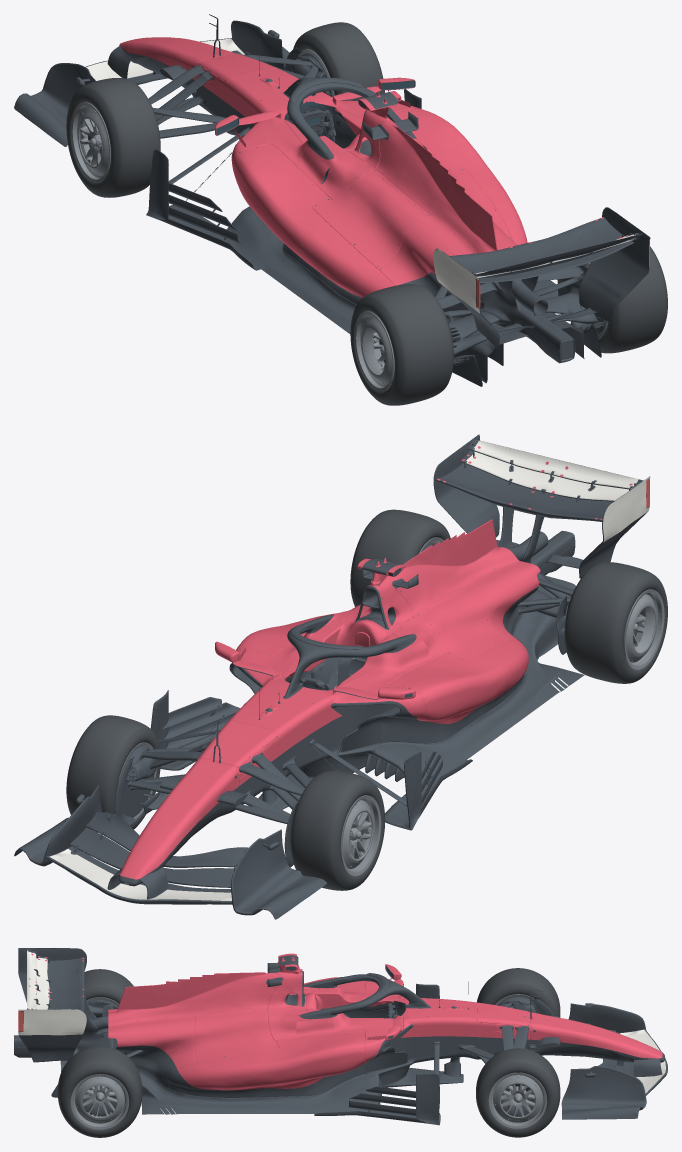
The model's file is ferrari-high.glb.
The picture shows the model from 3 angles, top to bottom: view 1: azimuth 30°, elevation 25°; view 2: azimuth 150°, elevation 25°; view 3: azimuth 270°, elevation 25°; orthographic projection. The views are drawn at different scales.
Visible parts, largest first — view 1: body, wheel2, wheel0, rearFlaps, frontFlaps, wheel3, wheel1, frontWing, rearWing, steering; view 2: body, frontFlaps, rearFlaps, wheel2, wheel0, wheel1, frontWing, wheel3, rearWing; view 3: body, frontFlaps, wheel3, wheel1, rearFlaps, wheel0, frontWing, wheel2, rearWing.
Boxes of the visible parts, left/top/right/bottom form: body: left=65, top=14, right=646, bottom=386; wheel2: left=350, top=284, right=453, bottom=405; wheel0: left=66, top=78, right=160, bottom=197; rearFlaps: left=434, top=207, right=650, bottom=313; frontFlaps: left=28, top=20, right=284, bottom=119; wheel3: left=565, top=246, right=667, bottom=353; wheel1: left=293, top=22, right=384, bottom=100; frontWing: left=14, top=46, right=289, bottom=146; rearWing: left=439, top=251, right=648, bottom=327; steering: left=292, top=109, right=332, bottom=135; body: left=114, top=471, right=639, bottom=867; frontFlaps: left=26, top=784, right=292, bottom=913; rearFlaps: left=435, top=434, right=650, bottom=541; wheel2: left=564, top=562, right=667, bottom=683; wheel0: left=290, top=771, right=385, bottom=890; wheel1: left=66, top=715, right=160, bottom=832; frontWing: left=14, top=817, right=327, bottom=919; wheel3: left=350, top=509, right=450, bottom=606; rearWing: left=438, top=489, right=647, bottom=555; body: left=14, top=952, right=564, bottom=1125; frontFlaps: left=562, top=1003, right=666, bottom=1108; wheel3: left=57, top=1046, right=142, bottom=1137; wheel1: left=476, top=1048, right=560, bottom=1137; rearFlaps: left=18, top=948, right=85, bottom=1035; wheel0: left=477, top=968, right=560, bottom=1017; frontWing: left=561, top=1062, right=667, bottom=1119; wheel2: left=84, top=969, right=133, bottom=1006; rearWing: left=18, top=975, right=86, bottom=1044.
Size of the model in its own units: 1.9 by 1.22 by 5.32.
